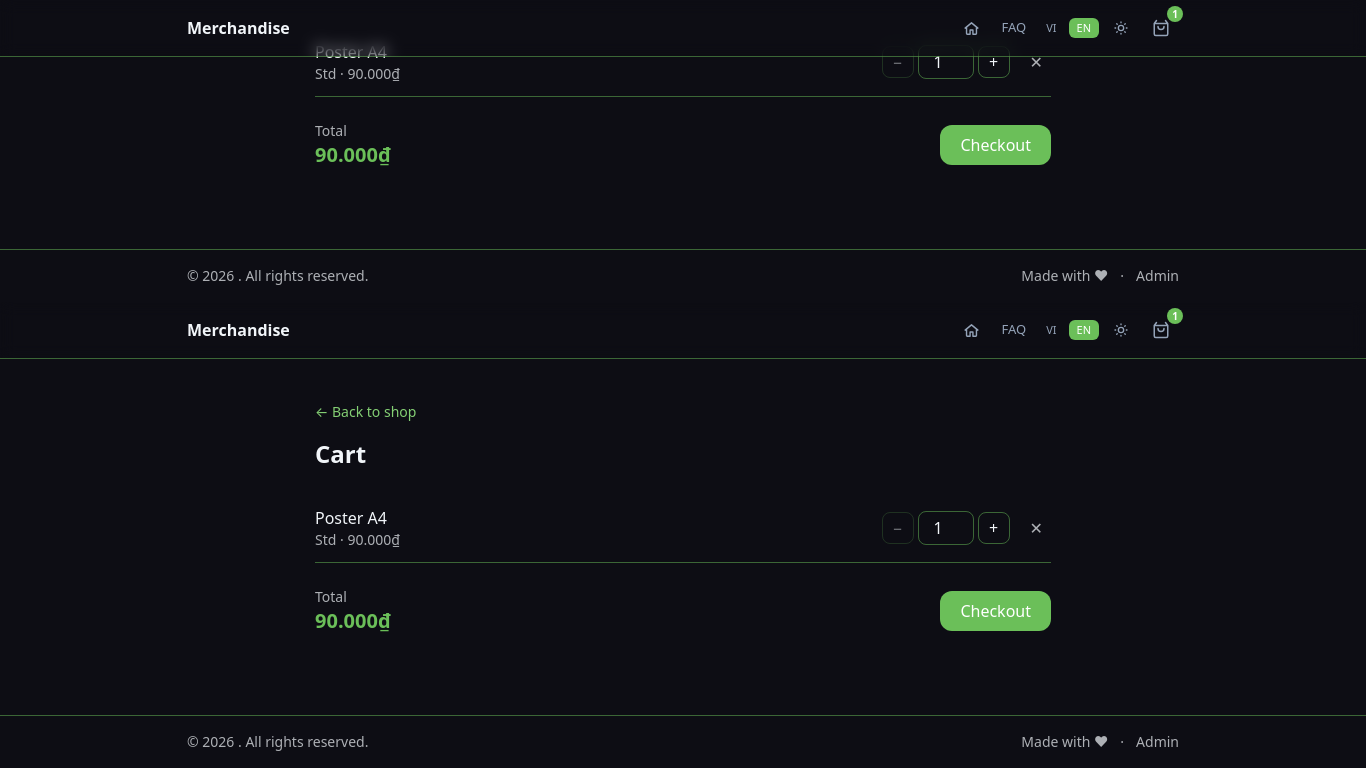
Cart - removing an item › removes the item once Remove is clicked in the popup
This screenshot has width=1366, height=768.
(page scrolled)
Click the 2nd button "✕" at (1036, 528), box [1022, 516, 1051, 540]
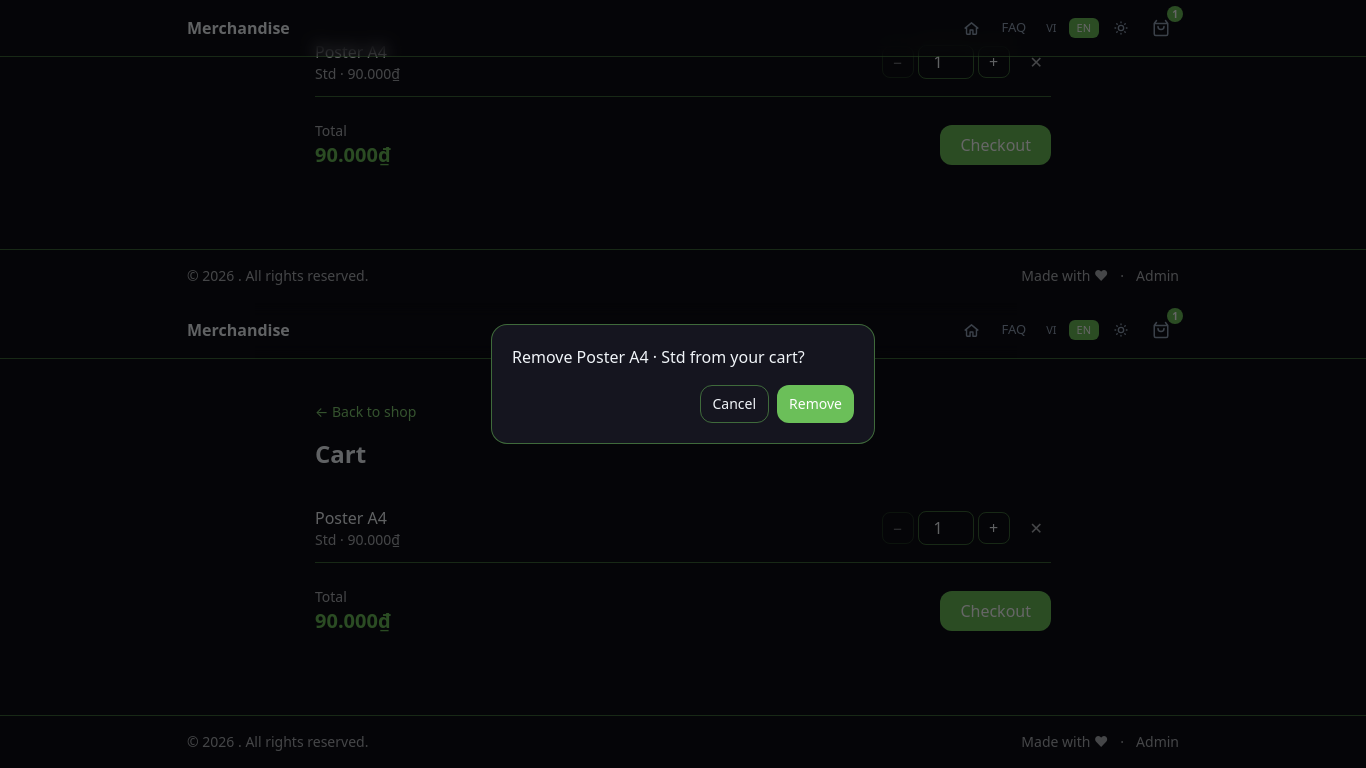
Click the button "Remove" at (816, 404), box [777, 385, 854, 423]
(page scrolled)
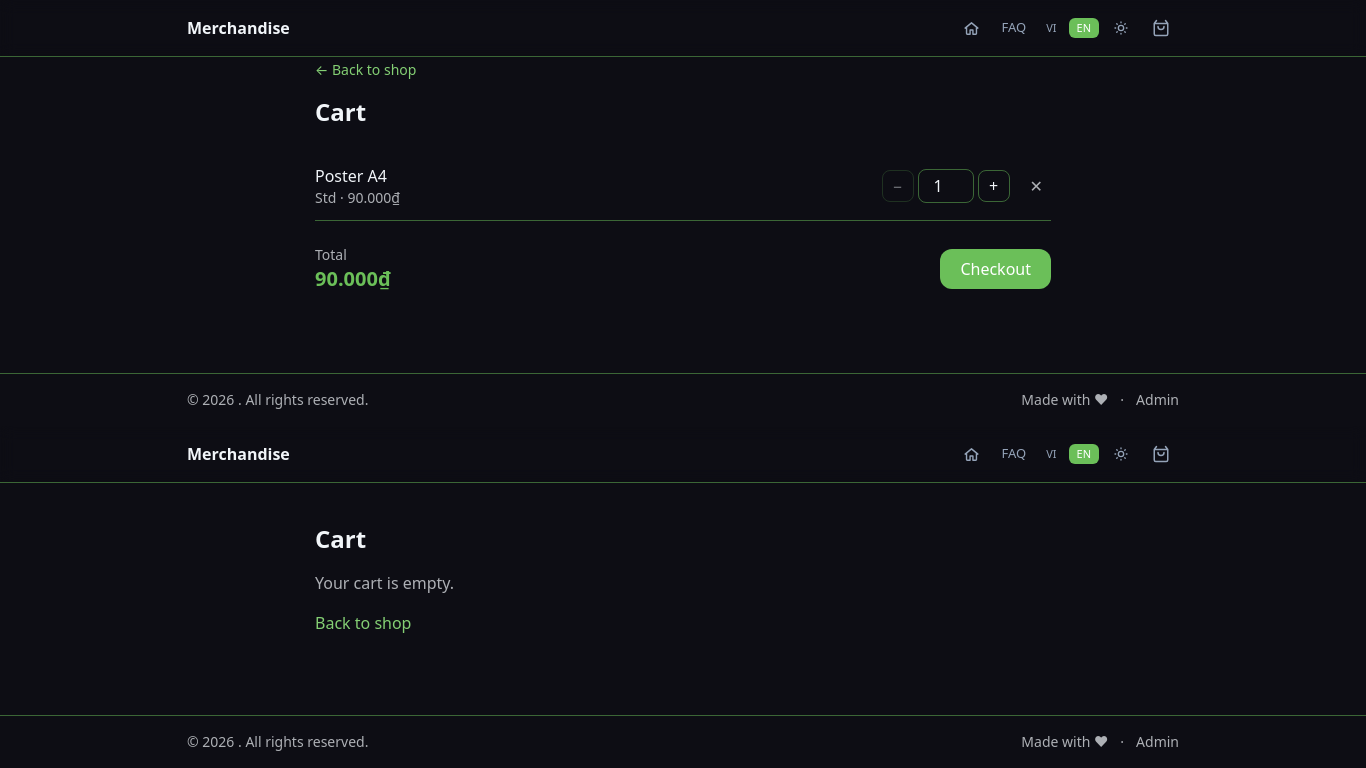
Result: the dialog is gone
